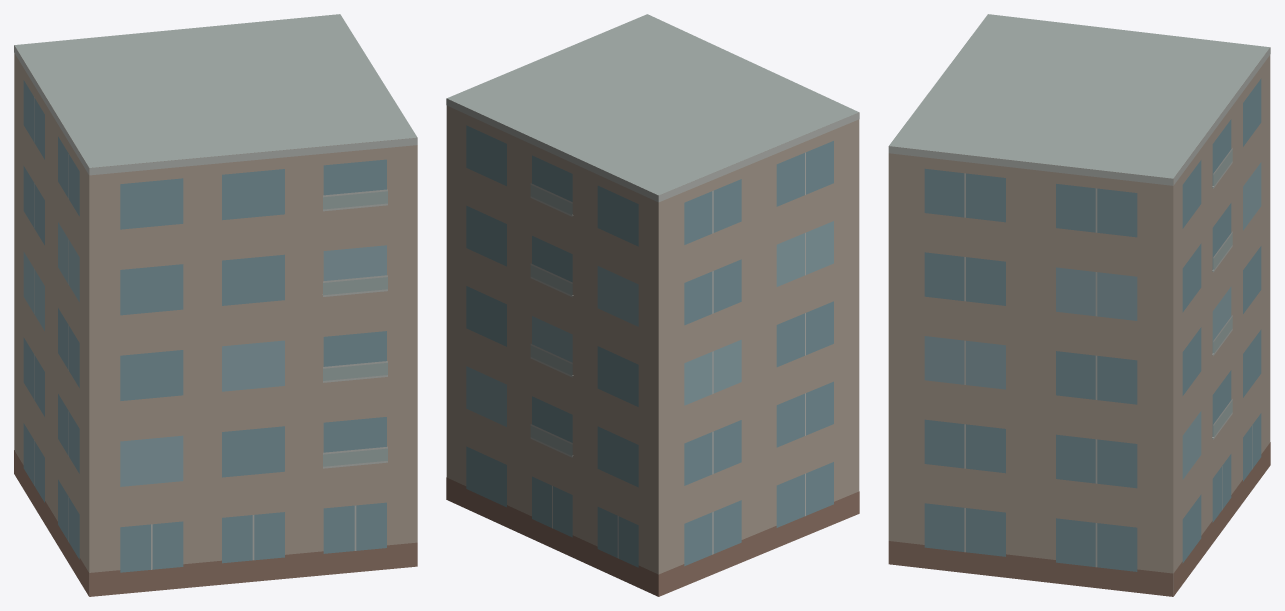
Rendered from survey-upis-32941787.glb.
The picture shows the model from 3 angles, left to right: view 1: azimuth 30°, elevation 25°; view 2: azimuth 150°, elevation 25°; view 3: azimuth 270°, elevation 25°; orthographic projection. The views are drawn at different scales.
Visible parts, largest first — view 1: survey-upis-32941787.tmp; view 2: survey-upis-32941787.tmp; view 3: survey-upis-32941787.tmp.
Boxes of the visible parts, x1,y1,x2,y2 form: survey-upis-32941787.tmp: (14,14,417,596); survey-upis-32941787.tmp: (446,14,859,596); survey-upis-32941787.tmp: (888,14,1270,596).
Bounding box in the file's own units: 11.92 × 14.1 × 11.67.
